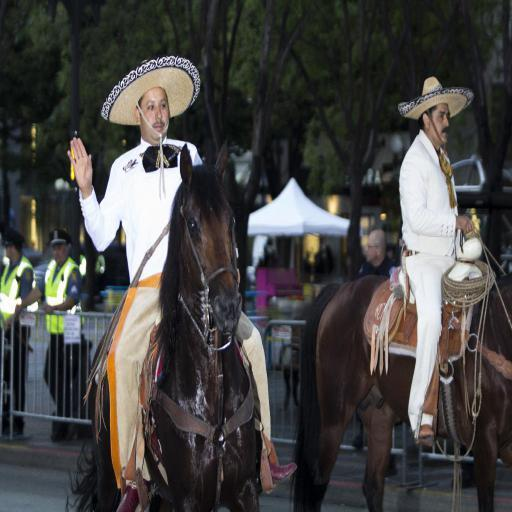horse: (64, 138, 263, 512), (289, 269, 512, 508)
